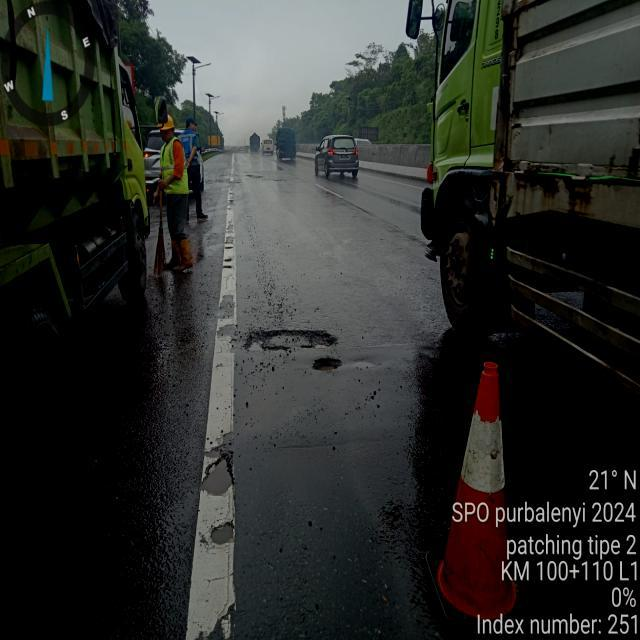Buraco: (240, 328, 341, 355), (192, 447, 239, 498), (208, 518, 239, 548), (414, 340, 445, 363), (310, 355, 345, 373)
